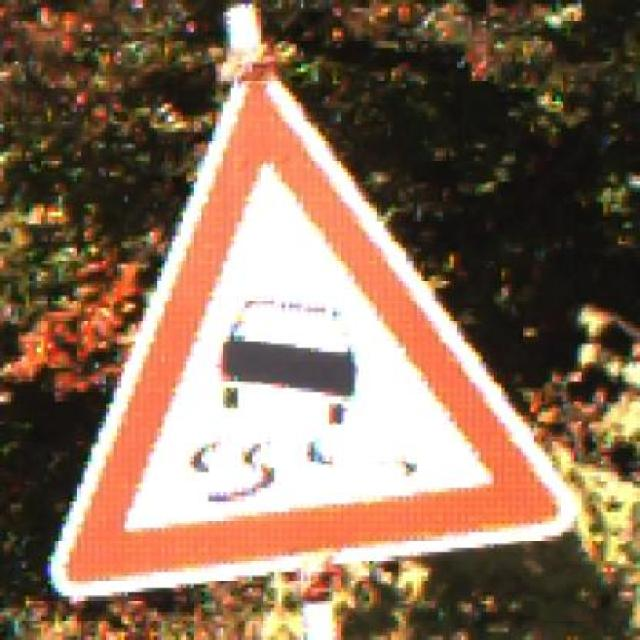Slippery Road Ahead: (43, 60, 574, 600)
